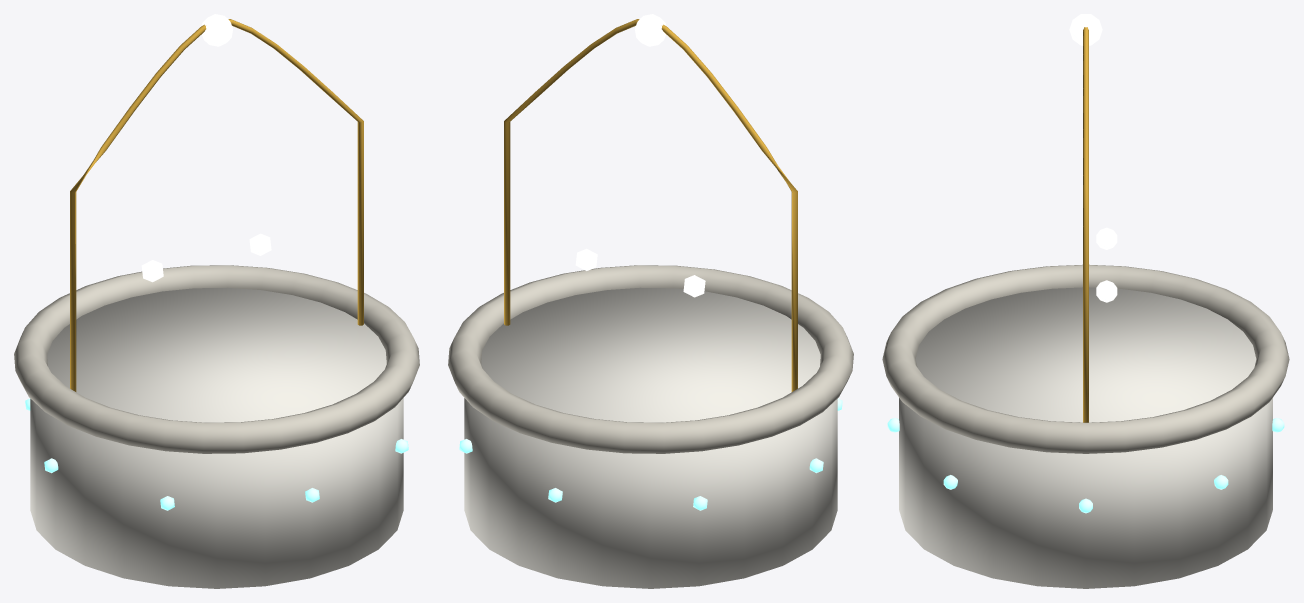
The model's file is elven-well.glb.
The picture shows the model from 3 angles, left to right: view 1: azimuth 30°, elevation 25°; view 2: azimuth 150°, elevation 25°; view 3: azimuth 270°, elevation 25°; orthographic projection.
Parts seen in each view (by area): view 1: Model Mesh; view 2: Model Mesh; view 3: Model Mesh.
Boxes of the visible parts, x1=… form: Model Mesh: x1=14, y1=14, x2=419, y2=588; Model Mesh: x1=448, y1=14, x2=853, y2=588; Model Mesh: x1=882, y1=14, x2=1289, y2=588.
Bounding box in the file's own units: 1.96 × 2.63 × 1.96.
